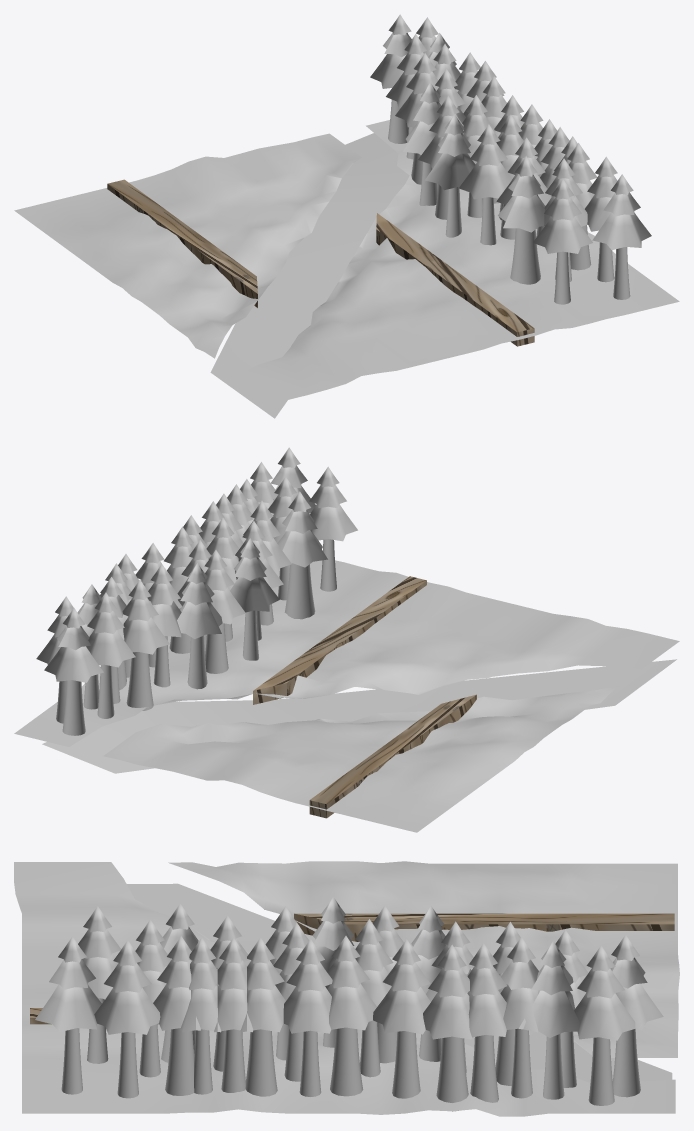
The model's file is darkenedForest_v2.fbx.
3 renders of one model, top to bottom at view 1: azimuth 30°, elevation 25°; view 2: azimuth 150°, elevation 25°; view 3: azimuth 270°, elevation 25°, orthographic. The views are drawn at different scales.
Parts seen in each view (by area): view 1: dirt/grass, trees, water, wood path; view 2: dirt/grass, trees, water, wood path; view 3: trees, dirt/grass, water, wood path.
Part boxes in pixels (x1,y1,x2,y2): dirt/grass: (14, 120, 679, 402); trees: (370, 14, 651, 304); water: (210, 133, 409, 418); wood path: (107, 179, 534, 346); dirt/grass: (14, 560, 679, 832); trees: (36, 447, 357, 735); water: (42, 659, 676, 773); wood path: (253, 576, 476, 818); trees: (35, 896, 663, 1111); dirt/grass: (14, 861, 679, 1116); water: (127, 883, 672, 1082); wood path: (30, 913, 674, 1024).
Bounding box in the file's own units: 319 × 104 × 357.
